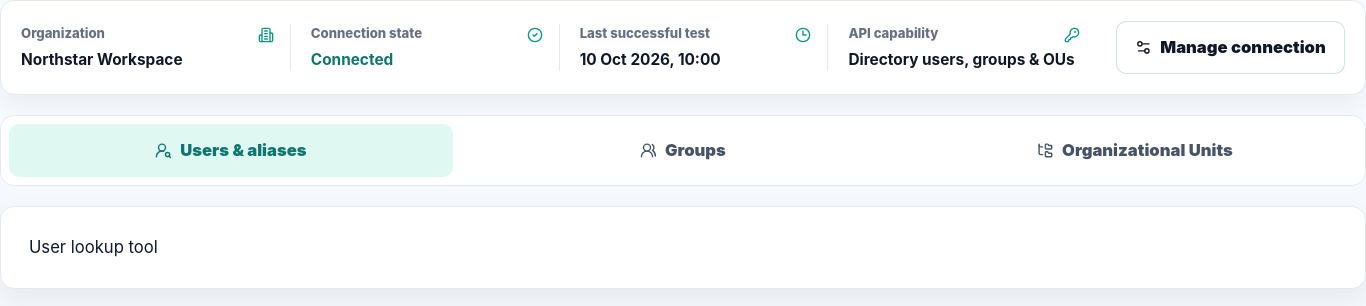
Test: GoogleWorkspaceAdministration › provides Groups navigation in the real administration area
Step 1. Click the button "Groups" → (683, 151), box [461,124,905,177]
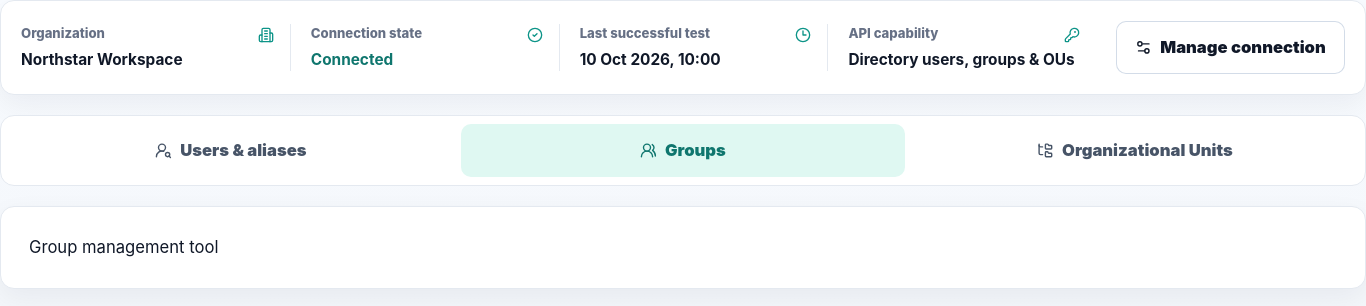
Expected: the text "Group management tool" is shown, [29,237,218,257]
